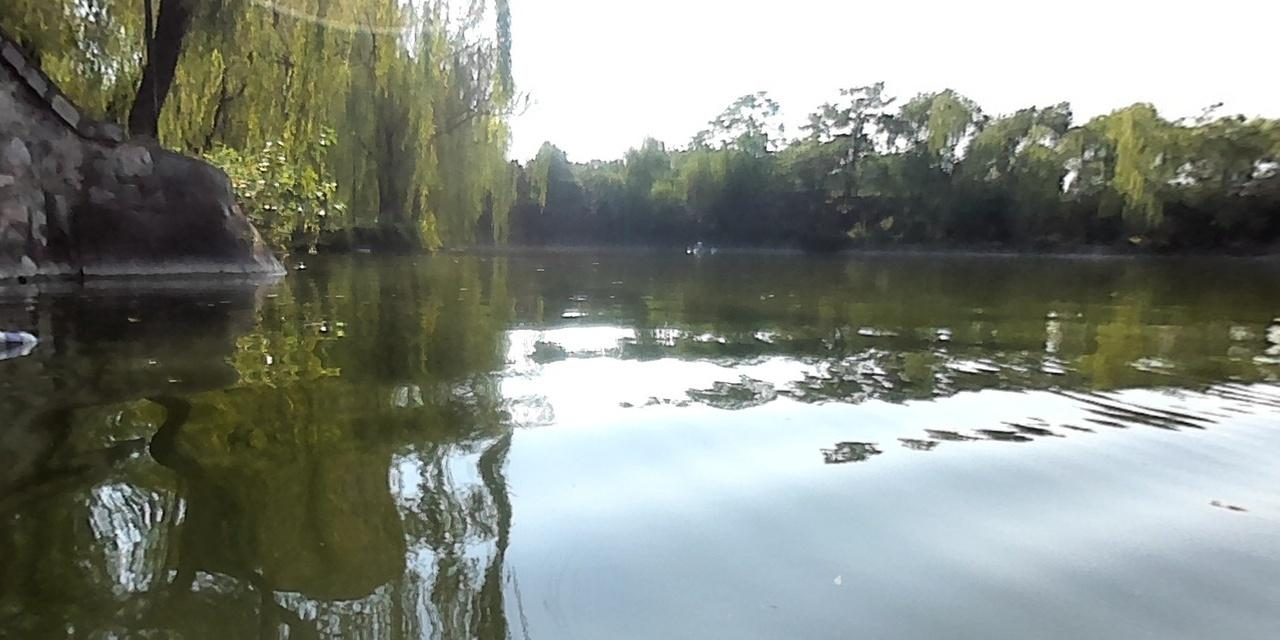bottle: (0, 330, 35, 349)
